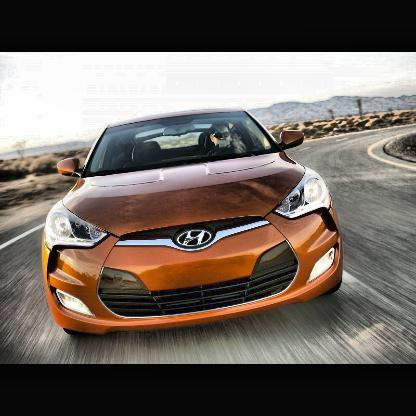Hyundai Veloster Hatchback 2012: (36, 95, 351, 345)
